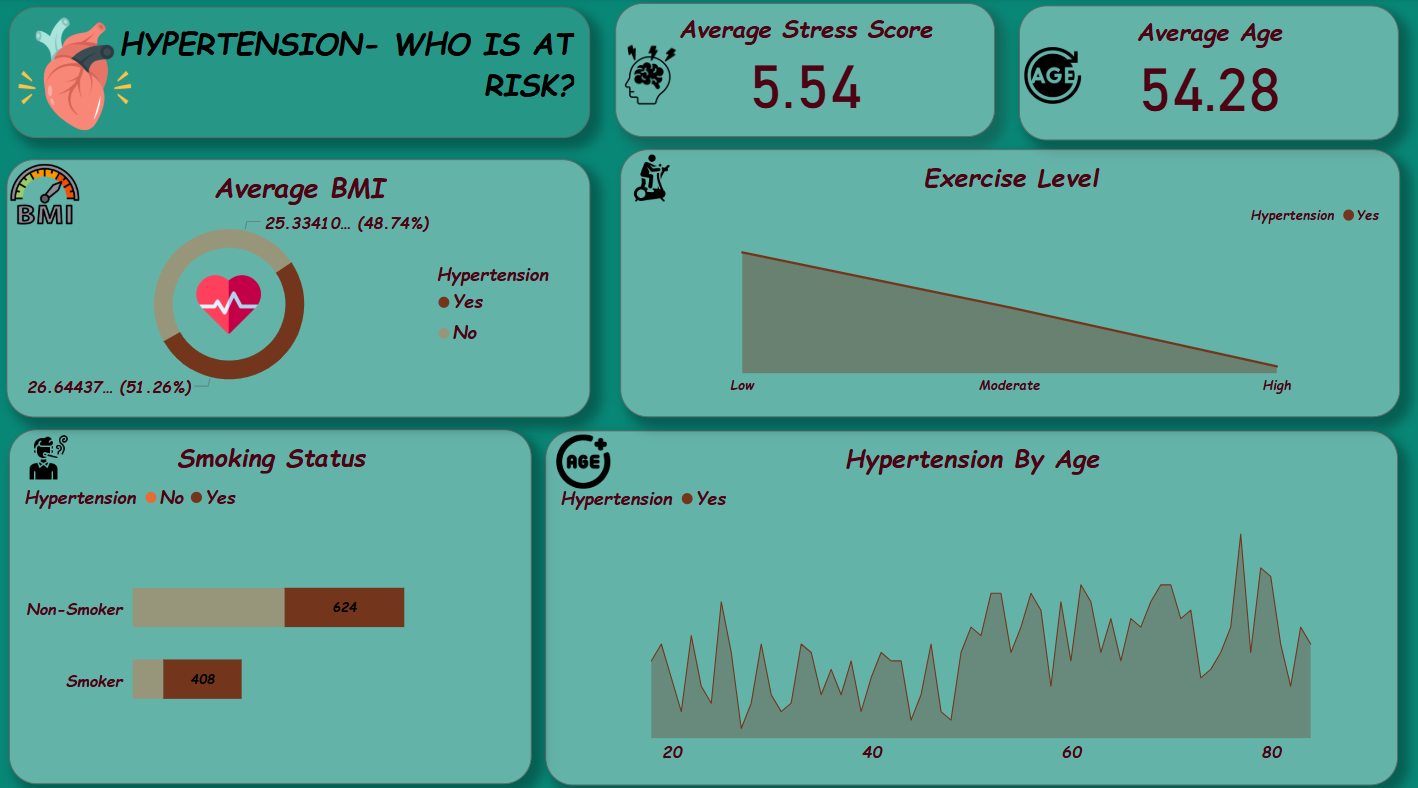

What the dashboard file says about the page in this screenshot:
{"tool":"powerbi","page":{"name":"Dashbord","canvas":[1280,720],"ordinal":0},"visuals":[{"type":"kpi","title":"Average Stress Score","fields":{"TrendLine":["hypertension_dataset.Hypertension Status"],"Indicator":["Avg(hypertension_dataset.Stress_Score)"]},"box":[556,5,342.1,120.7],"z":0},{"type":"kpi","title":"Average Age","fields":{"Indicator":["Avg(hypertension_dataset.Age)"],"TrendLine":["hypertension_dataset.Has_Hypertension"]},"box":[919.3,6.2,342.1,121.9],"z":1000},{"type":"stackedAreaChart","title":"Hypertension By Age","fields":{"Category":["hypertension_dataset.Age"],"Y":["CountNonNull(hypertension_dataset.Has_Hypertension)"],"Series":["hypertension_dataset.Hypertension Status"]},"box":[493,389.5,768.6,319.8],"z":2000},{"type":"barChart","title":"Smoking Status","fields":{"Category":["hypertension_dataset.Smoking_Status"],"Y":["CountNonNull(hypertension_dataset.Has_Hypertension)"],"Series":["hypertension_dataset.Has_Hypertension"]},"box":[8.7,389.4,471.5,319.7],"z":3000},{"type":"donutChart","title":"Average BMI","fields":{"Category":["hypertension_dataset.Hypertension Status"],"Y":["Avg(hypertension_dataset.BMI)"]},"box":[6.2,145.5,526.2,232.6],"z":4000},{"type":"stackedAreaChart","title":"Exercise Level","fields":{"Y":["CountNonNull(hypertension_dataset.Has_Hypertension)"],"Category":["hypertension_dataset.Exercise_Level"],"Series":["hypertension_dataset.Has_Hypertension"]},"box":[559.8,136.8,702.8,241.3],"z":5000},{"type":"textbox","box":[8.7,7.5,523.7,118.2],"z":6000},{"type":"image","box":[0,0,136.8,136.8],"z":7000},{"type":"image","box":[554.8,31.1,65.9,74.6],"z":8000},{"type":"image","box":[919.7,33.8,60.9,72.1],"z":9000},{"type":"image","box":[169.2,242.6,75.9,68.4],"z":10000},{"type":"image","box":[493.7,388.9,66.5,58.6],"z":11000},{"type":"image","box":[0,389.4,85.8,52.2],"z":12000},{"type":"image","box":[546.1,136.8,83.3,52.2],"z":13000},{"type":"image","box":[0,128.1,82.1,95.8],"z":14000}]}

Visuals, with their boxes in screenshot pixels (x1, y1, x2, y2), scaled from the page's 1280x720 canvas onto the 1418x788 screenshot:
"Average Stress Score" kpi: [616,5,995,138]
"Average Age" kpi: [1018,7,1397,140]
"Hypertension By Age" stackedAreaChart: [546,426,1398,776]
"Smoking Status" barChart: [10,426,532,776]
"Average BMI" donutChart: [7,159,590,414]
"Exercise Level" stackedAreaChart: [620,150,1399,414]
textbox: [10,8,590,138]
image: [0,0,152,150]
image: [615,34,688,116]
image: [1019,37,1086,116]
image: [187,266,272,340]
image: [547,426,621,490]
image: [0,426,95,483]
image: [605,150,697,207]
image: [0,140,91,245]
